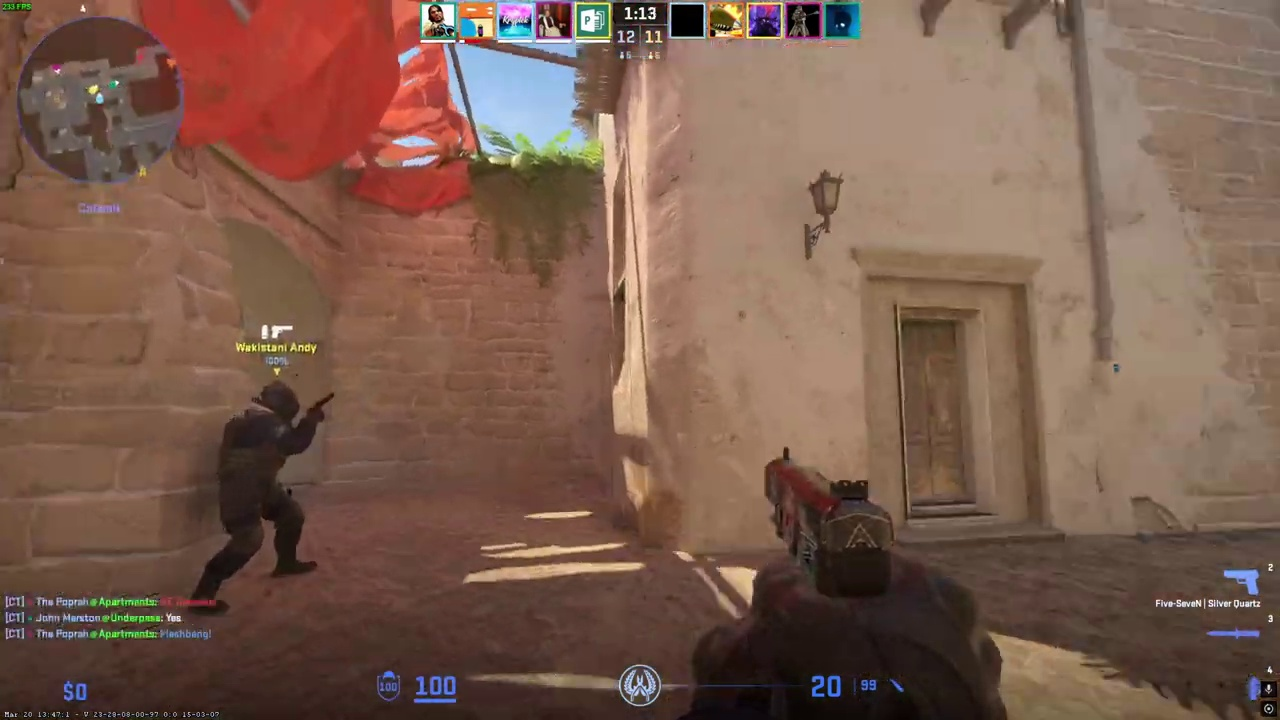CT: (191, 379, 324, 617)
